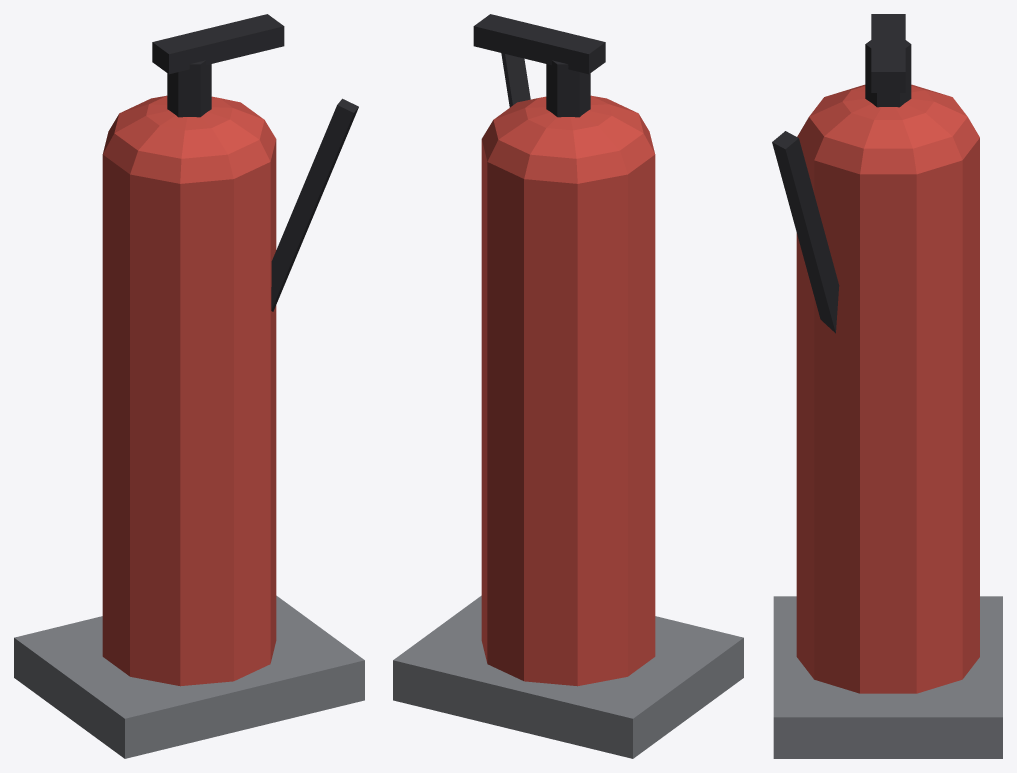
Rendered from SM_Fire_Extinguisher.glb.
3 renders of one model, left to right at view 1: azimuth 30°, elevation 25°; view 2: azimuth 150°, elevation 25°; view 3: azimuth 270°, elevation 25°, orthographic. The views are drawn at different scales.
Parts seen in each view (by area): view 1: SM_Fire_Extinguisher; view 2: SM_Fire_Extinguisher; view 3: SM_Fire_Extinguisher.
Boxes of the visible parts, x1,y1,x2,y2 form: SM_Fire_Extinguisher: (14,14,364,758); SM_Fire_Extinguisher: (393,14,743,758); SM_Fire_Extinguisher: (772,14,1002,758).
Size of the model in its own units: 0.25 by 0.645 by 0.2016.
